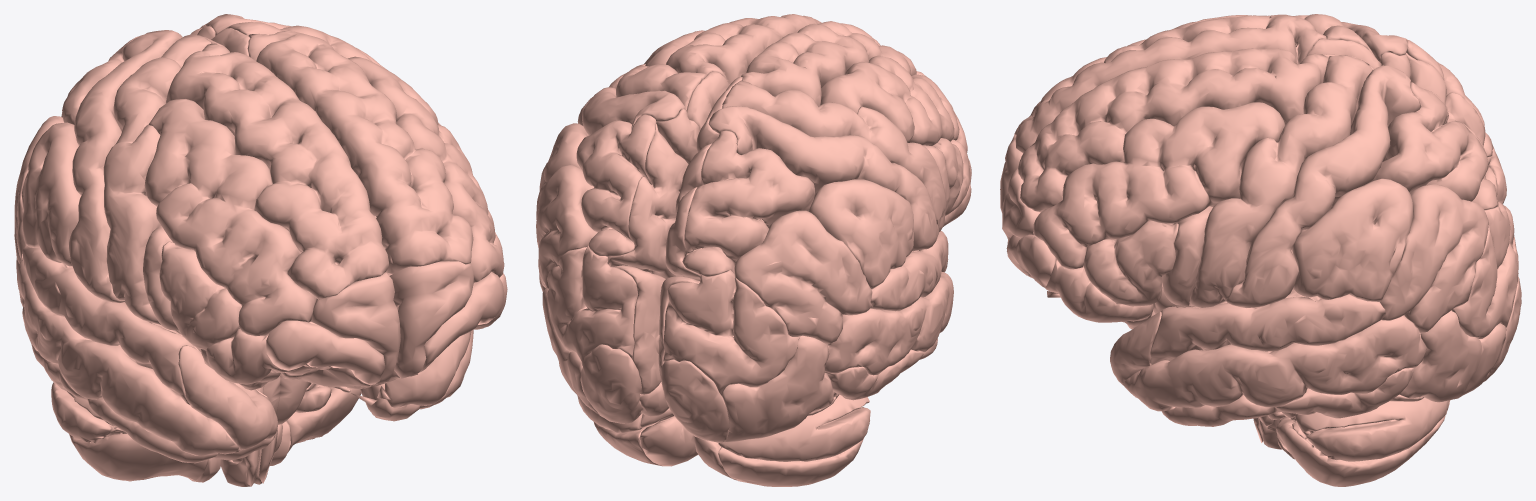
File: hra-brain-male-v1.3.glb
The picture shows the model from 3 angles, left to right: view 1: azimuth 30°, elevation 25°; view 2: azimuth 150°, elevation 25°; view 3: azimuth 270°, elevation 25°; orthographic projection. The views are drawn at different scales.
Parts seen in each view (by area): view 1: Allen_superior_frontal_gyrus_L, Allen_middle_frontal_gyrus_L, Allen_superior_frontal_gyrus_R, Allen_middle_temporal_gyrus_L, Allen_precentral_gyrus_L, Allen_postcentral_gyrus_L, Allen_superior_temporal_gyrus_L, Allen_middle_frontal_gyrus_R, Allen_supramarginal_gyrus_L, Allen_rostral_gyrus_R, Allen_lateral_hemisphere_of_cerebellum_L, Allen_inferior_frontal_gyrus_triangular_part_L (+19 smaller); view 2: Allen_angular_gyrus_L, Allen_supraparietal_lobule_L, Allen_superior_occipital_gyrus_L, Allen_postcentral_gyrus_L, Allen_lateral_hemisphere_of_cerebellum_L, Allen_superior_occipital_gyrus_R, Allen_supraparietal_lobule_R, Allen_precentral_gyrus_L, Allen_supramarginal_gyrus_L, Allen_middle_frontal_gyrus_L, Allen_superior_frontal_gyrus_L, Allen_inferior_occipital_gyrus_L (+24 smaller); view 3: Allen_middle_frontal_gyrus_R, Allen_superior_frontal_gyrus_R, Allen_middle_temporal_gyrus_R, Allen_precentral_gyrus_R, Allen_postcentral_gyrus_R, Allen_supramarginal_gyrus_R, Allen_angular_gyrus_R, Allen_superior_temporal_gyrus_R, Allen_lateral_hemisphere_of_cerebellum_R, Allen_superior_frontal_gyrus_L, Allen_supraparietal_lobule_R, Allen_inferior_frontal_gyrus_triangular_part_R (+16 smaller).
Part boxes in pixels (<box>): Allen_superior_frontal_gyrus_L: <box>166,43,388,300</box>; Allen_middle_frontal_gyrus_L: <box>144,99,316,335</box>; Allen_superior_frontal_gyrus_R: <box>247,31,473,273</box>; Allen_middle_temporal_gyrus_L: <box>17,261,239,456</box>; Allen_precentral_gyrus_L: <box>103,34,211,324</box>; Allen_postcentral_gyrus_L: <box>68,30,182,302</box>; Allen_superior_temporal_gyrus_L: <box>22,245,196,405</box>; Allen_middle_frontal_gyrus_R: <box>348,56,504,282</box>; Allen_supramarginal_gyrus_L: <box>21,122,81,266</box>; Allen_rostral_gyrus_R: <box>389,260,474,378</box>; Allen_lateral_hemisphere_of_cerebellum_L: <box>51,382,208,481</box>; Allen_inferior_frontal_gyrus_triangular_part_L: <box>159,241,241,350</box>; Allen_angular_gyrus_L: <box>734,210,871,344</box>; Allen_supraparietal_lobule_L: <box>682,130,814,276</box>; Allen_superior_occipital_gyrus_L: <box>663,270,799,395</box>; Allen_postcentral_gyrus_L: <box>708,106,939,251</box>; Allen_lateral_hemisphere_of_cerebellum_L: <box>718,395,870,486</box>; Allen_superior_occipital_gyrus_R: <box>547,245,637,365</box>; Allen_supraparietal_lobule_R: <box>576,114,656,256</box>; Allen_precentral_gyrus_L: <box>722,80,945,231</box>; Allen_supramarginal_gyrus_L: <box>808,179,913,289</box>; Allen_middle_frontal_gyrus_L: <box>820,55,967,152</box>; Allen_superior_frontal_gyrus_L: <box>741,21,925,106</box>; Allen_inferior_occipital_gyrus_L: <box>721,335,837,442</box>; Allen_middle_frontal_gyrus_R: <box>1033,102,1285,269</box>; Allen_superior_frontal_gyrus_R: <box>1018,48,1328,212</box>; Allen_middle_temporal_gyrus_R: <box>1123,315,1426,411</box>; Allen_precentral_gyrus_R: <box>1189,55,1372,307</box>; Allen_postcentral_gyrus_R: <box>1226,65,1421,307</box>; Allen_supramarginal_gyrus_R: <box>1291,178,1413,301</box>; Allen_angular_gyrus_R: <box>1380,184,1488,333</box>; Allen_superior_temporal_gyrus_R: <box>1149,294,1385,365</box>; Allen_lateral_hemisphere_of_cerebellum_R: <box>1268,397,1449,486</box>; Allen_superior_frontal_gyrus_L: <box>1014,14,1326,153</box>; Allen_supraparietal_lobule_R: <box>1372,82,1498,209</box>; Allen_inferior_frontal_gyrus_triangular_part_R: <box>1083,220,1178,306</box>.
Bounding box in the file's own units: 0.1364 × 0.1457 × 0.167.
